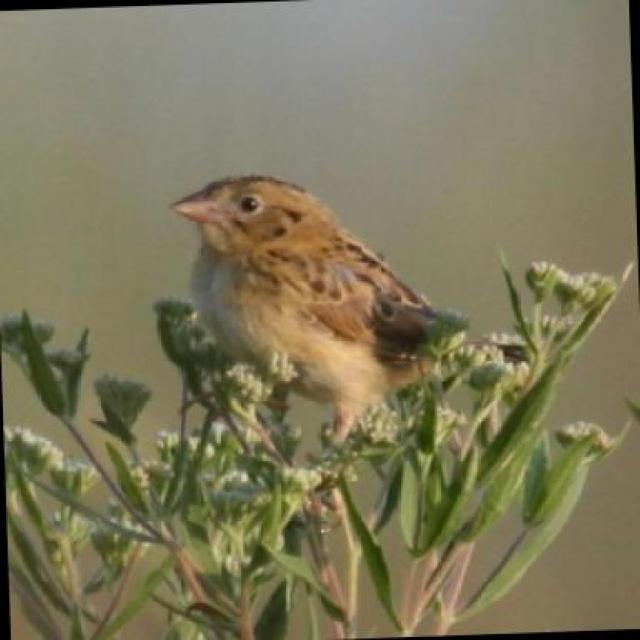Bird: (162, 160, 464, 443)
